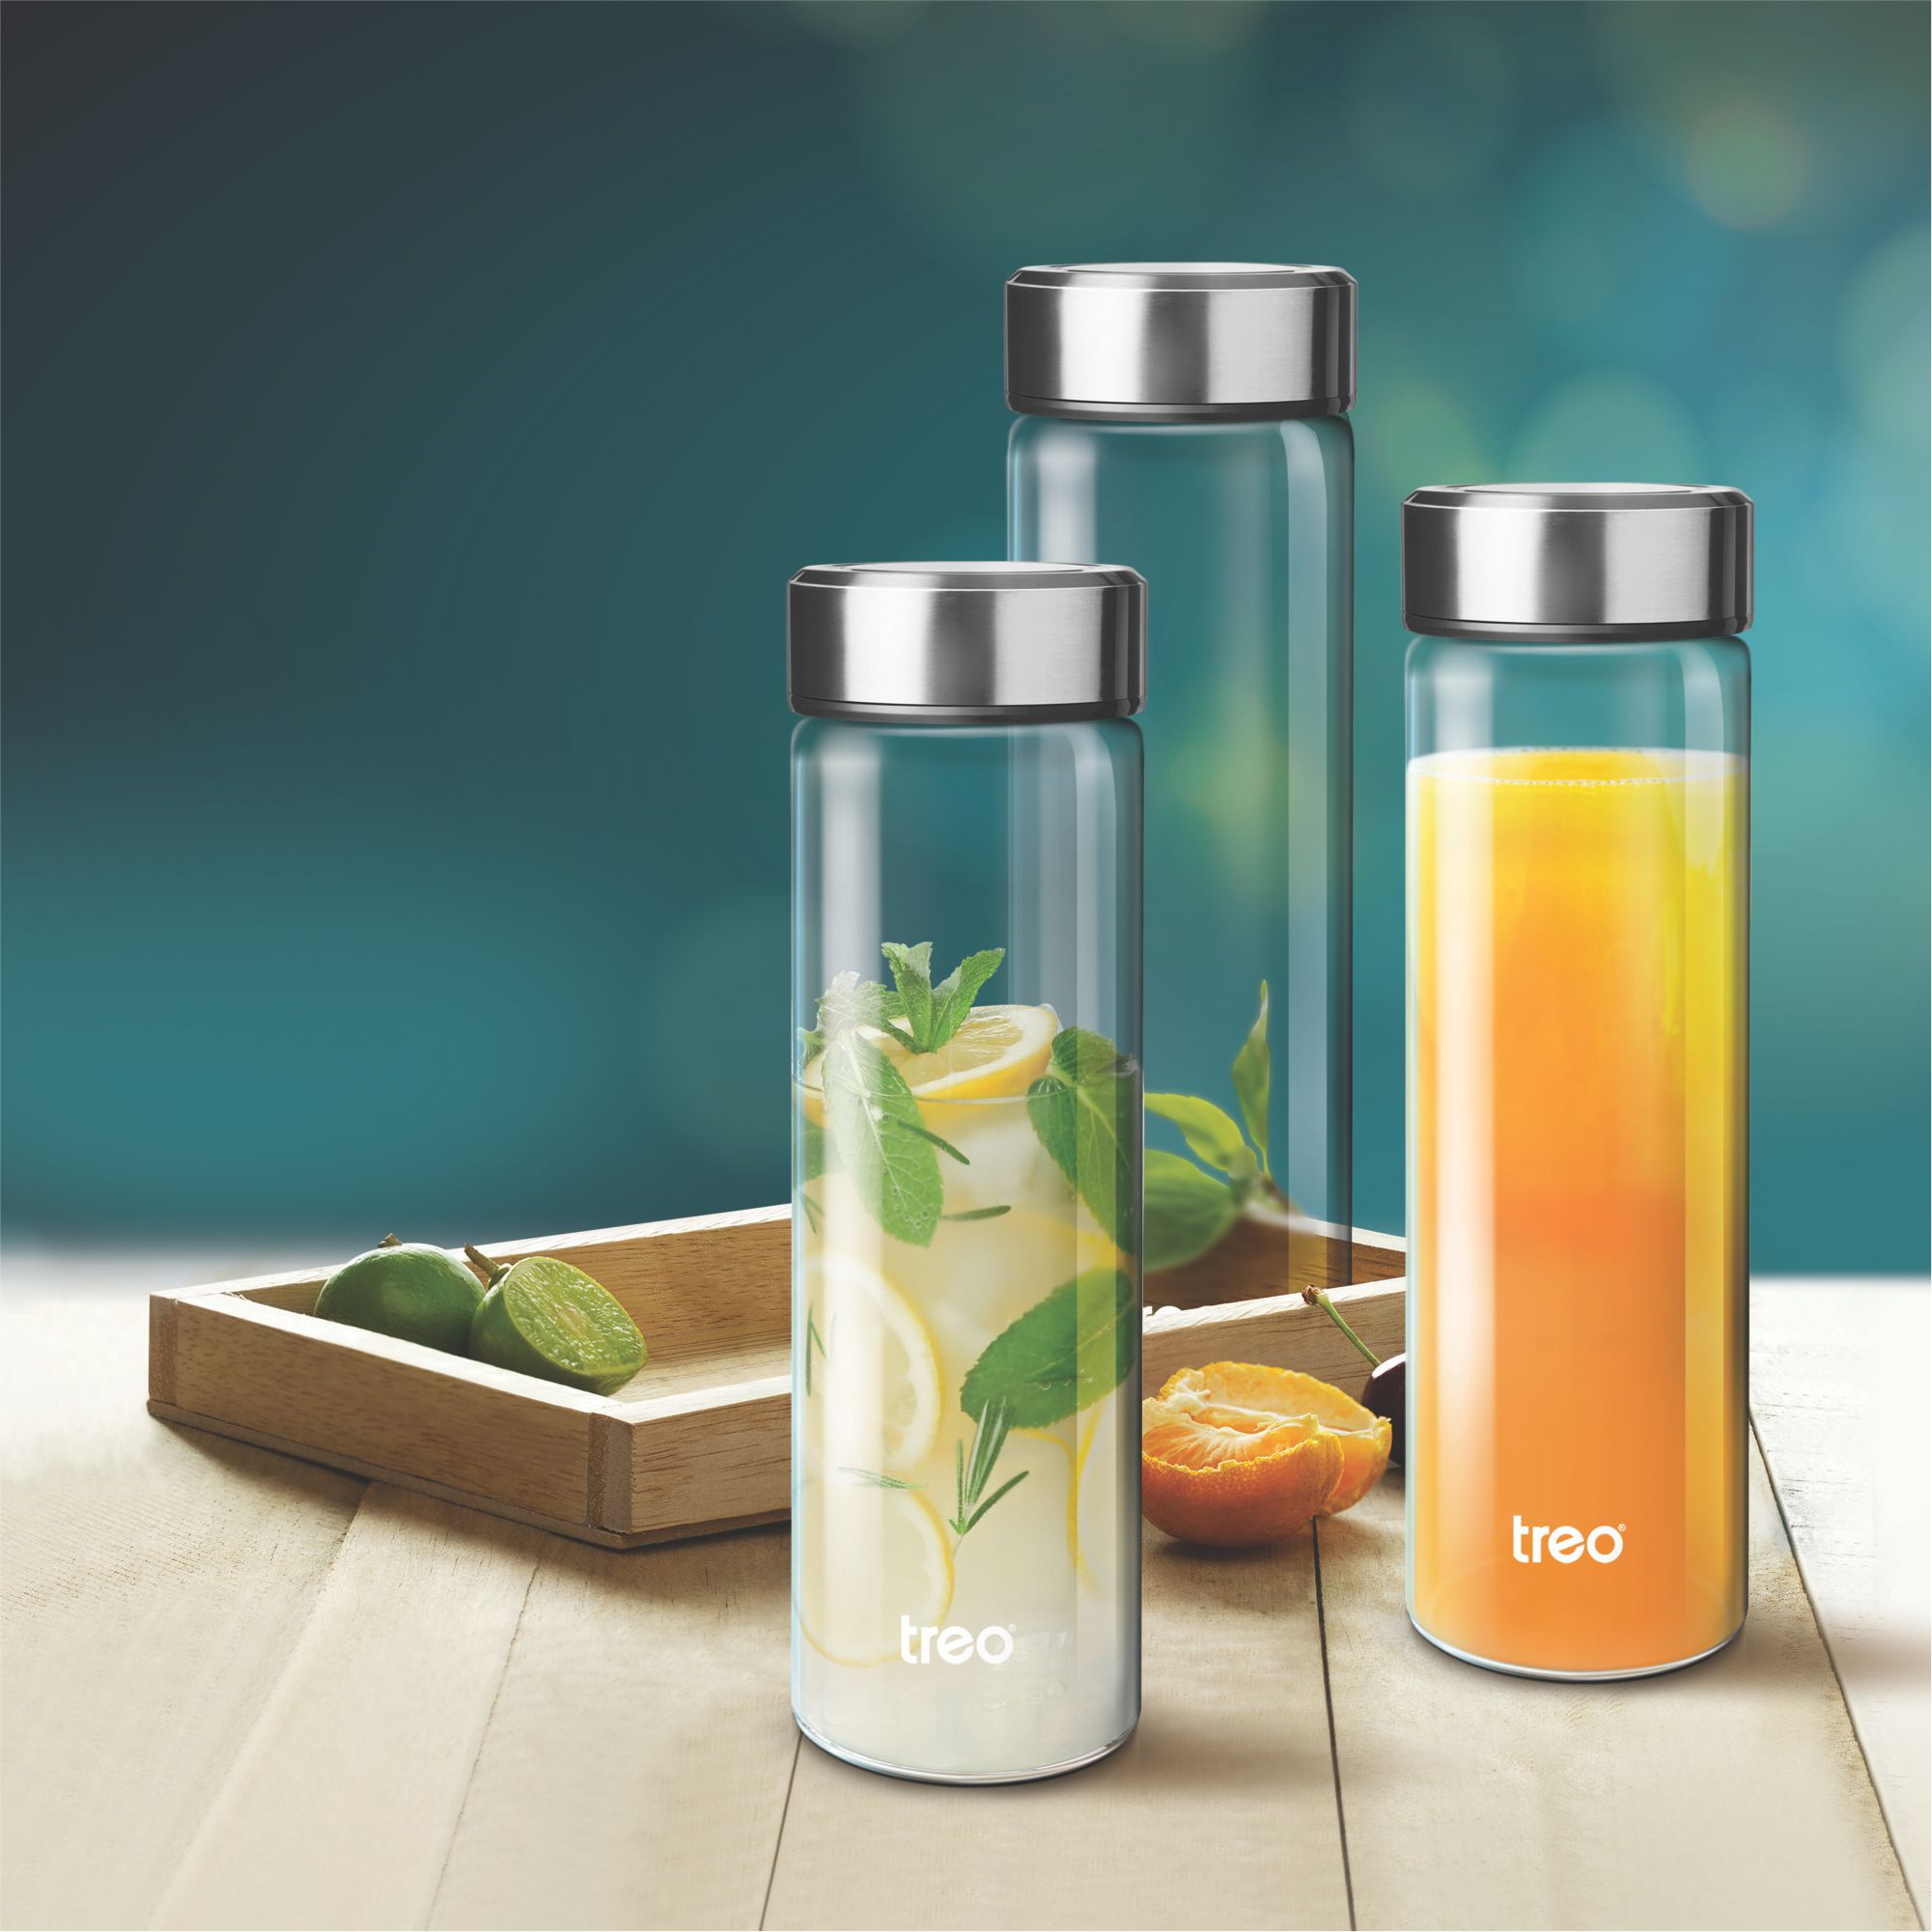glass_bottle: (1392, 471, 1760, 1693)
